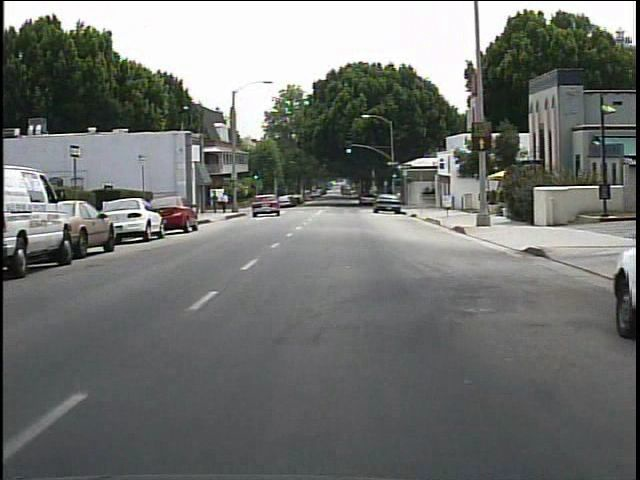person: (209, 190, 222, 215), (220, 191, 231, 214)
